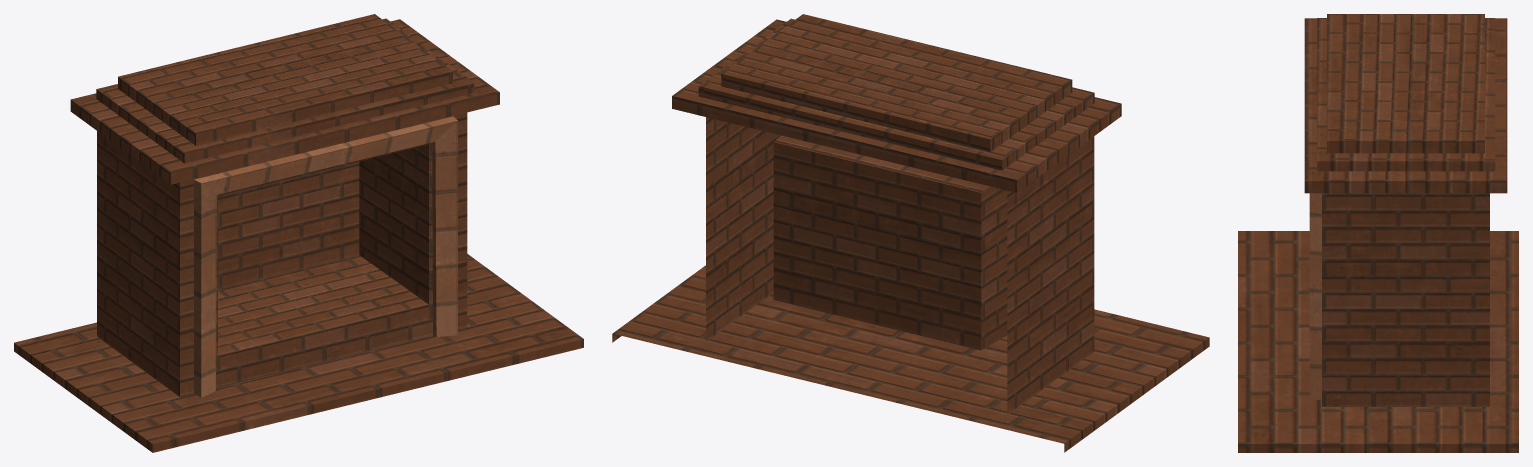
Rendered from fireplace3.fbx.
3 renders of one model, left to right at view 1: azimuth 30°, elevation 25°; view 2: azimuth 150°, elevation 25°; view 3: azimuth 270°, elevation 25°, orthographic. The views are drawn at different scales.
Visible parts, largest first — view 1: polySurface996; view 2: polySurface996; view 3: polySurface996.
Boxes of the visible parts, x1,y1,x2,y2 form: polySurface996: [14, 14, 583, 452]; polySurface996: [612, 14, 1209, 452]; polySurface996: [1238, 14, 1518, 452].
Bounding box in the file's own units: 300 × 179 × 167.
